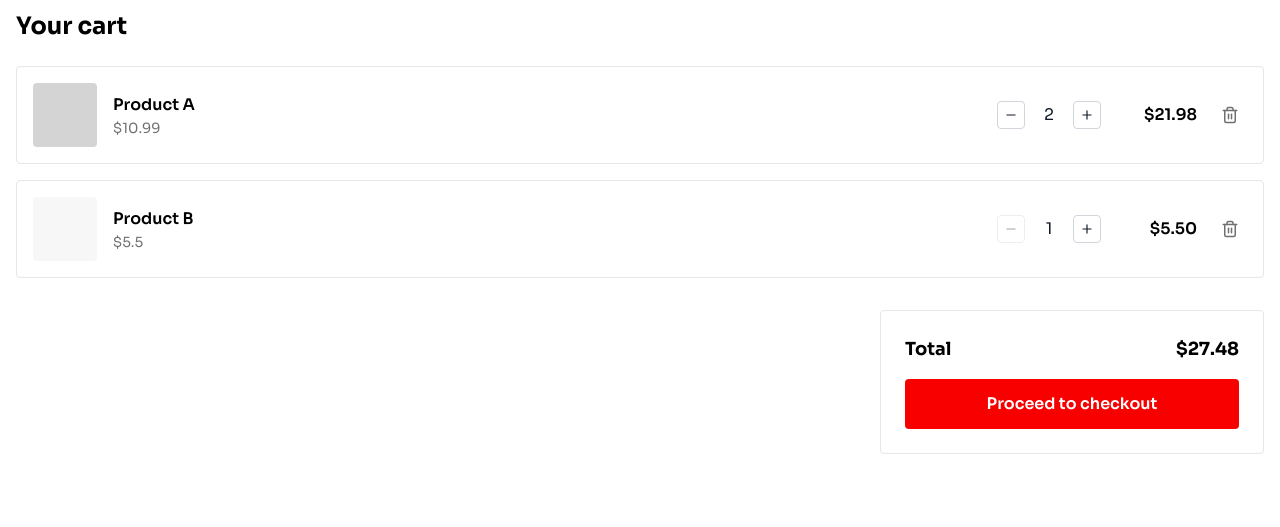
it: Cart page › quand l'utilisateur est connecté, le bouton "Proceed to checkout" affiche le panneau de confirmation
What coordinates should you click on to do the following:
click the button "Proceed to checkout"
I would click on:
 (1072, 404)
Its box is 905,379 -> 1239,429.
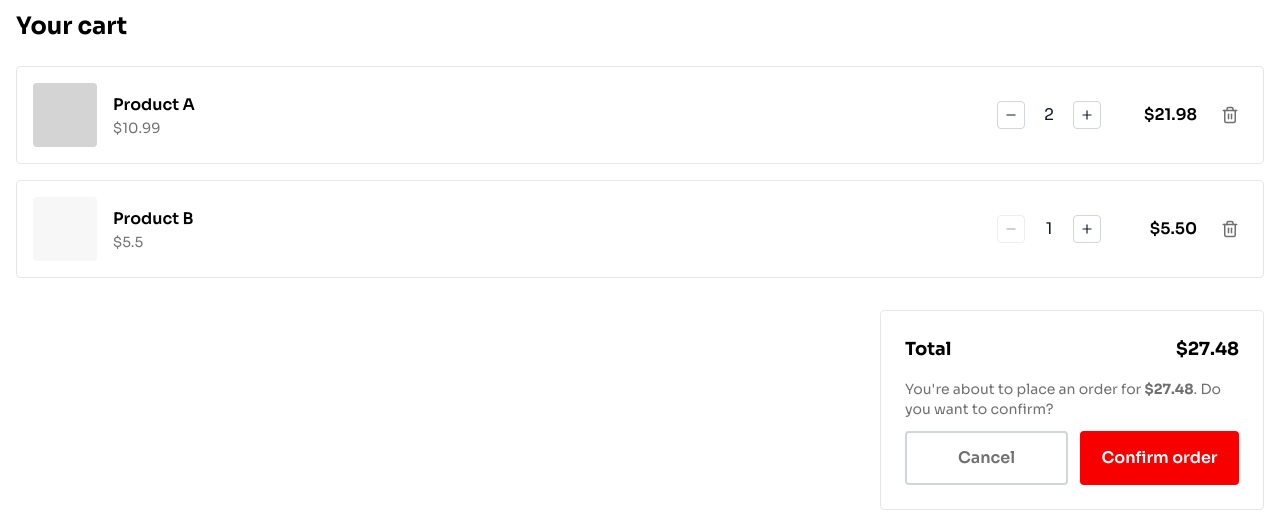
Expected: the text "You're about to place an order for" is shown, 905,380 -> 1144,398
Expected: the button "Cancel" is shown, 905,431 -> 1068,485
Expected: the button "Confirm order" is shown, 1080,431 -> 1239,485
